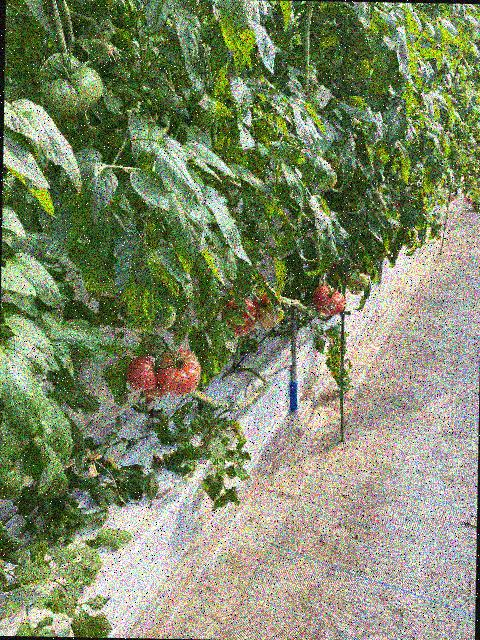b_fully_ripened: (220, 298, 257, 337), (125, 355, 157, 391), (312, 285, 345, 317)
b_green: (37, 52, 103, 116), (340, 270, 369, 292), (256, 306, 281, 329), (321, 168, 337, 192), (322, 150, 341, 168)
b_half_ripened: (154, 349, 201, 397), (142, 380, 166, 399)
